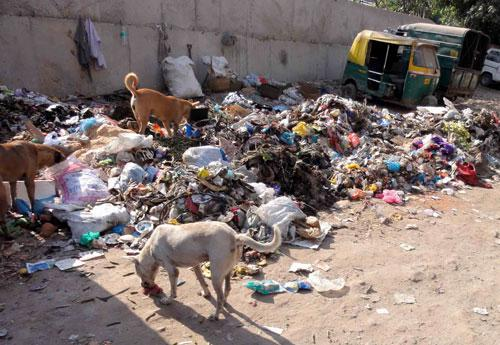Garbage: (284, 106, 435, 229), (332, 126, 428, 226), (252, 272, 357, 310), (424, 133, 483, 198), (345, 178, 408, 216), (174, 144, 236, 182), (18, 83, 70, 113), (261, 206, 324, 227), (116, 159, 154, 190), (156, 179, 188, 205), (186, 187, 228, 206)
